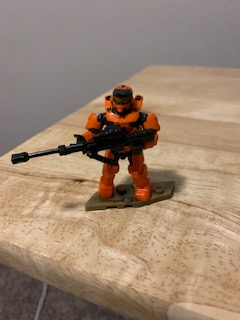spartan: (68, 82, 161, 201)
